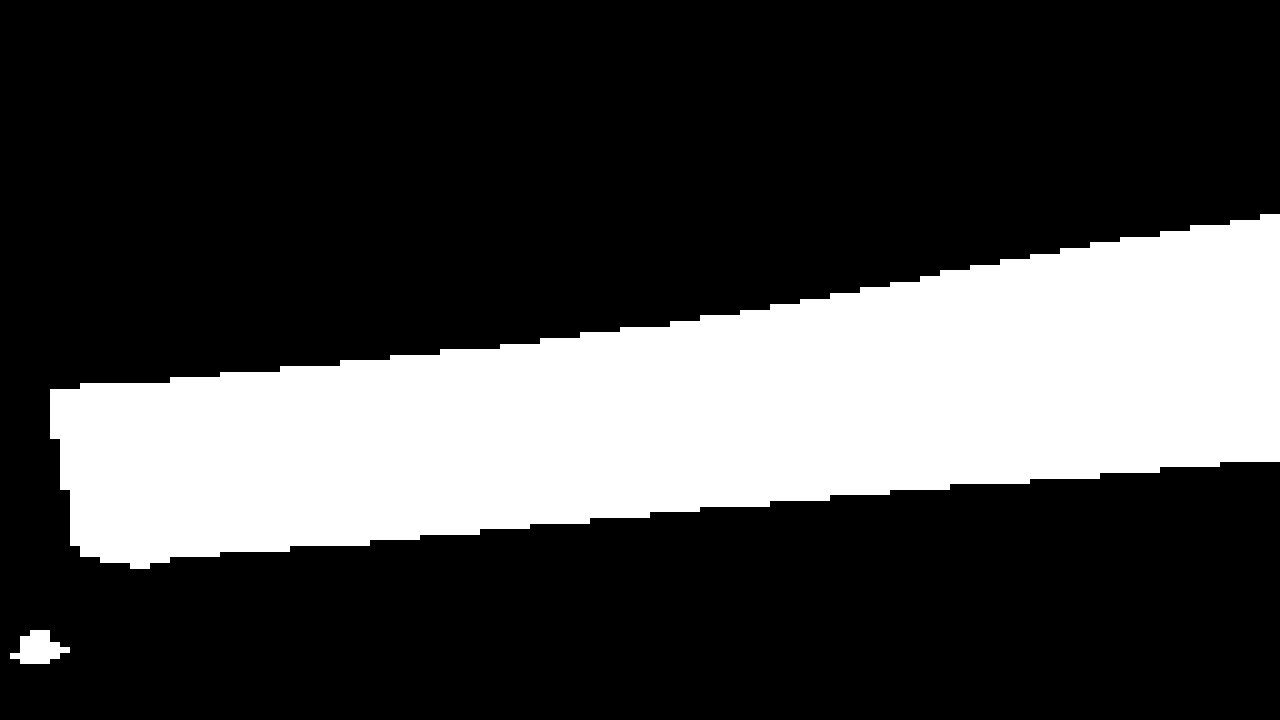Turbine: (78, 188, 1266, 584)
